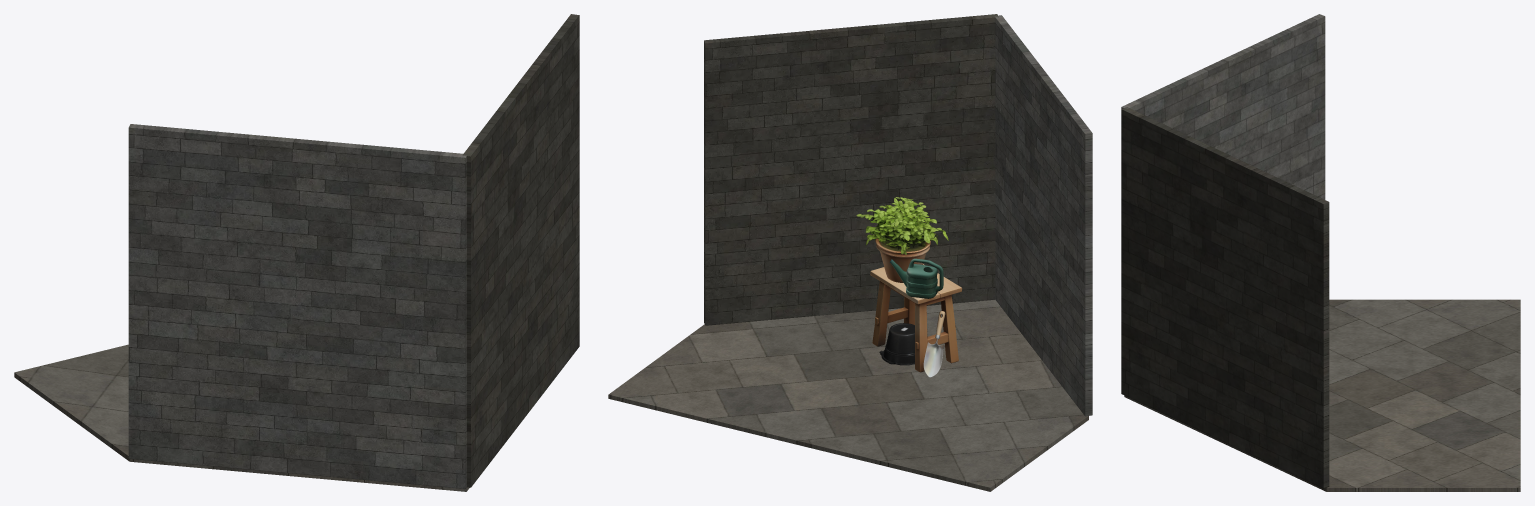
File: garden.glb
3 renders of one model, left to right at view 1: azimuth 30°, elevation 25°; view 2: azimuth 150°, elevation 25°; view 3: azimuth 270°, elevation 25°, orthographic. The views are drawn at different scales.
Parts seen in each view (by area): view 1: wall_2, wall_0, floor_0; view 2: wall_0, floor_0, wall_2, obj_stool_0, obj_pot_0, obj_watering_can_0, obj_bucket_0, obj_trowel_0; view 3: wall_0, floor_0, wall_2.
Boxes of the visible parts, bbox=[...] form: wall_2: bbox=[128, 124, 466, 488]; wall_0: bbox=[462, 14, 579, 487]; floor_0: bbox=[14, 344, 469, 491]; wall_0: bbox=[704, 14, 998, 325]; floor_0: bbox=[608, 299, 1088, 491]; wall_2: bbox=[995, 15, 1092, 416]; obj_stool_0: bbox=[870, 264, 962, 372]; obj_pot_0: bbox=[856, 197, 948, 282]; obj_watering_can_0: bbox=[889, 258, 943, 298]; obj_bucket_0: bbox=[879, 323, 914, 365]; obj_trowel_0: bbox=[923, 311, 945, 377]; wall_0: bbox=[1121, 107, 1329, 488]; floor_0: bbox=[1124, 299, 1520, 491]; wall_2: bbox=[1121, 14, 1325, 199].
Size of the model in its own units: 3.44 by 2.44 by 3.05.
8 materials, 8 textured.
